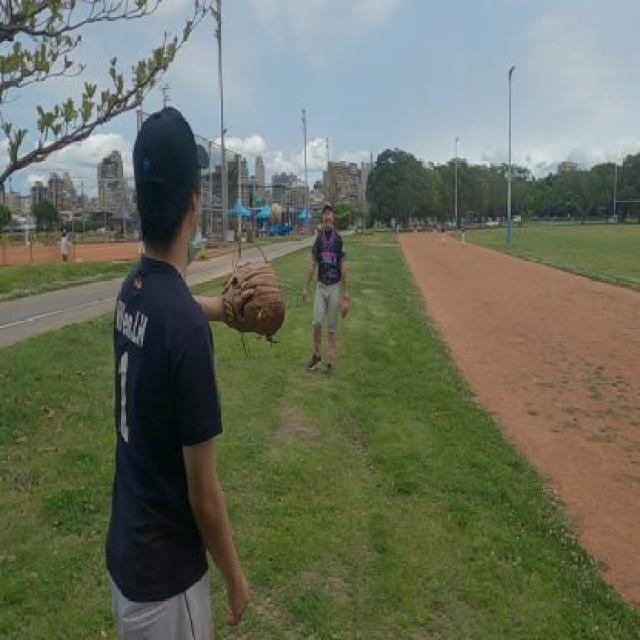baseball: (268, 202, 282, 225)
